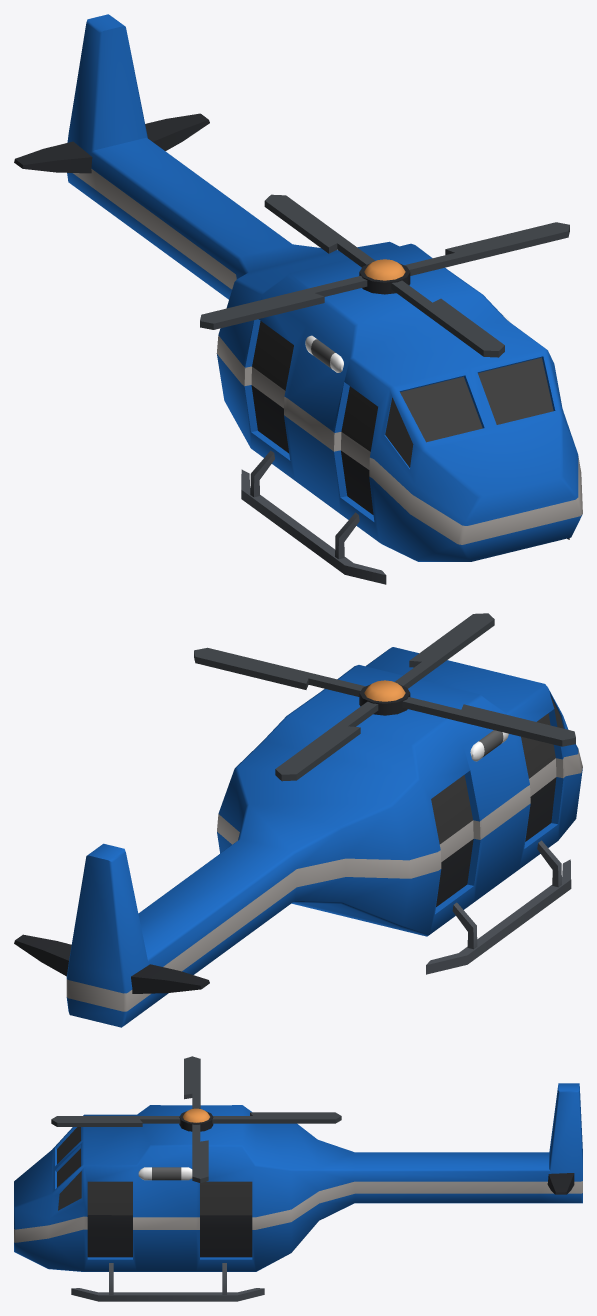
File: Helicopter_1.fbx
3 views of the same model, one above another, from view 1: azimuth 30°, elevation 25°; view 2: azimuth 150°, elevation 25°; view 3: azimuth 270°, elevation 25° (orthographic). The views are drawn at different scales.
Visible parts, largest first — view 1: Helicopter_1; view 2: Helicopter_1; view 3: Helicopter_1.
Part boxes in pixels (x1,y1,x2,y2): Helicopter_1: [14, 14, 582, 584]; Helicopter_1: [14, 613, 582, 1027]; Helicopter_1: [14, 1056, 582, 1301].
Size of the model in its own units: 423 by 287 by 829.
